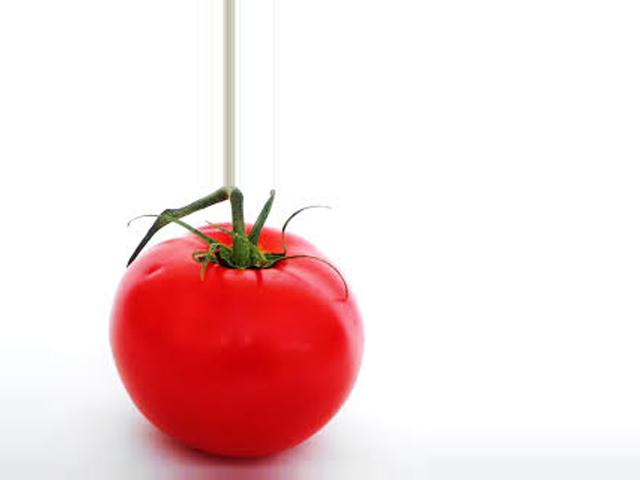tomato: (112, 224, 366, 459)
